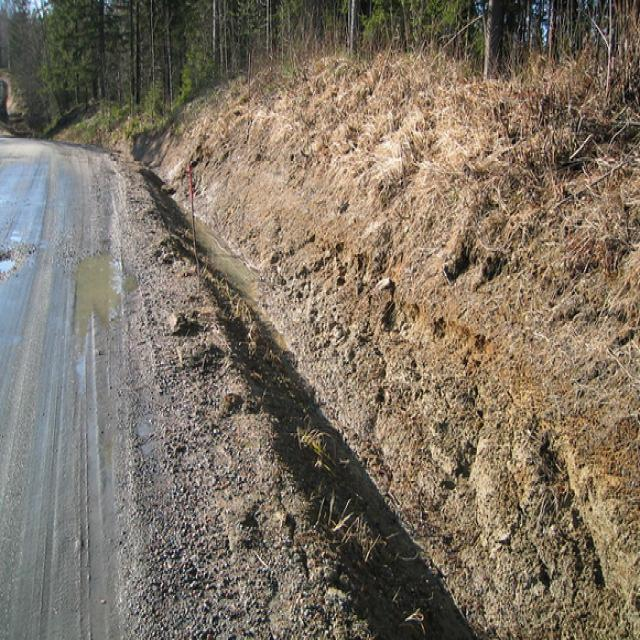Pothole: (68, 111, 352, 640)
